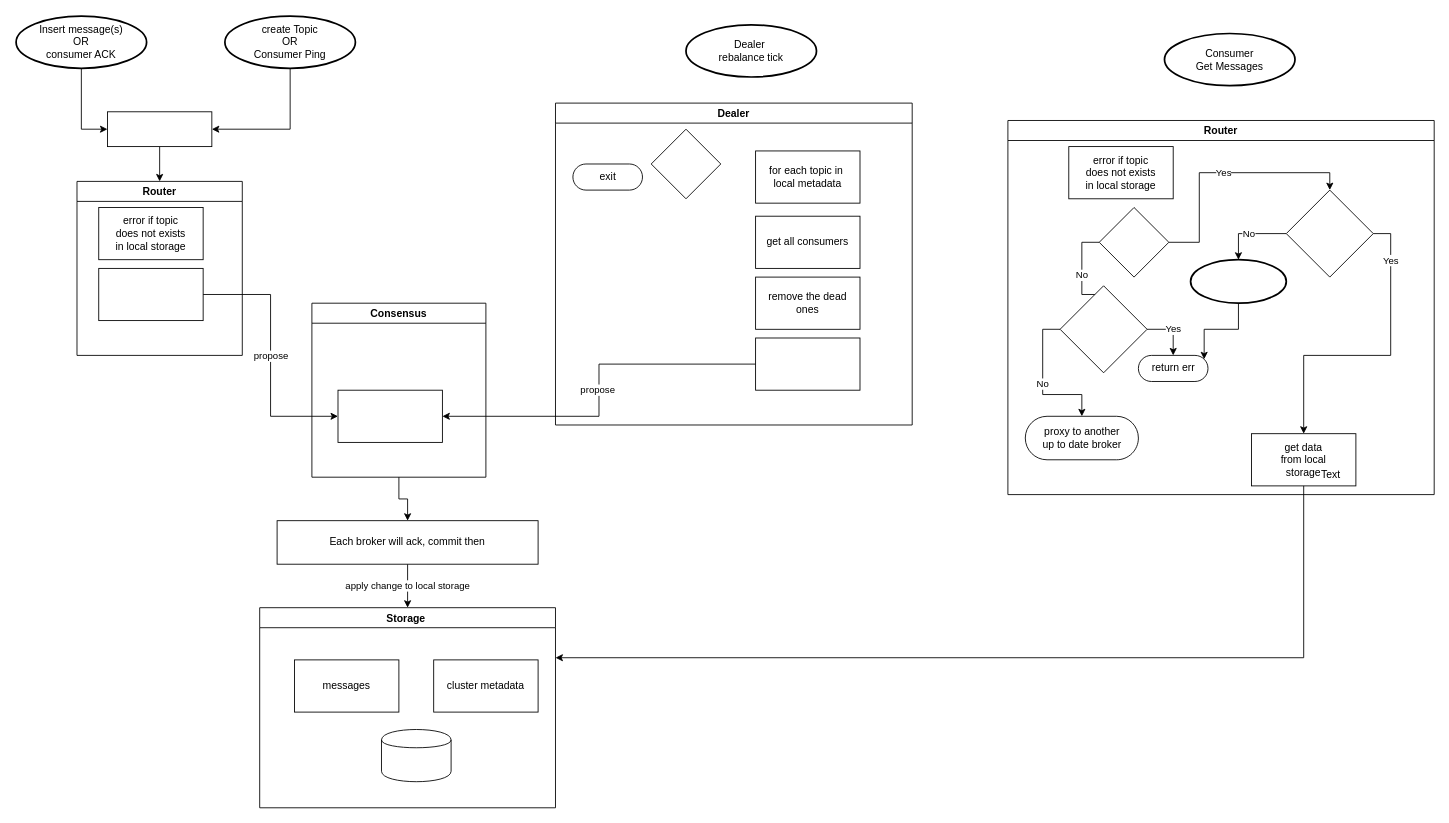
Some shapes in this 1449 by 823 pixel diagram are drawn without their labels. Here are the shapes that lost their labels. From the top down, the centre of each, then its label:
the point at 159,129: Public API
the point at 685,163: is node leader
the point at 1133,242: is node up to date
the point at 1329,233: consumer is in local storage metadata
the point at 150,294: generate the proposal
the point at 1238,281: Consumer Ping
the point at 1103,329: is this already a proxied req
the point at 807,363: split the partitions between them
the point at 389,415: forwards to raft leader
the point at 416,755: badgerDB
